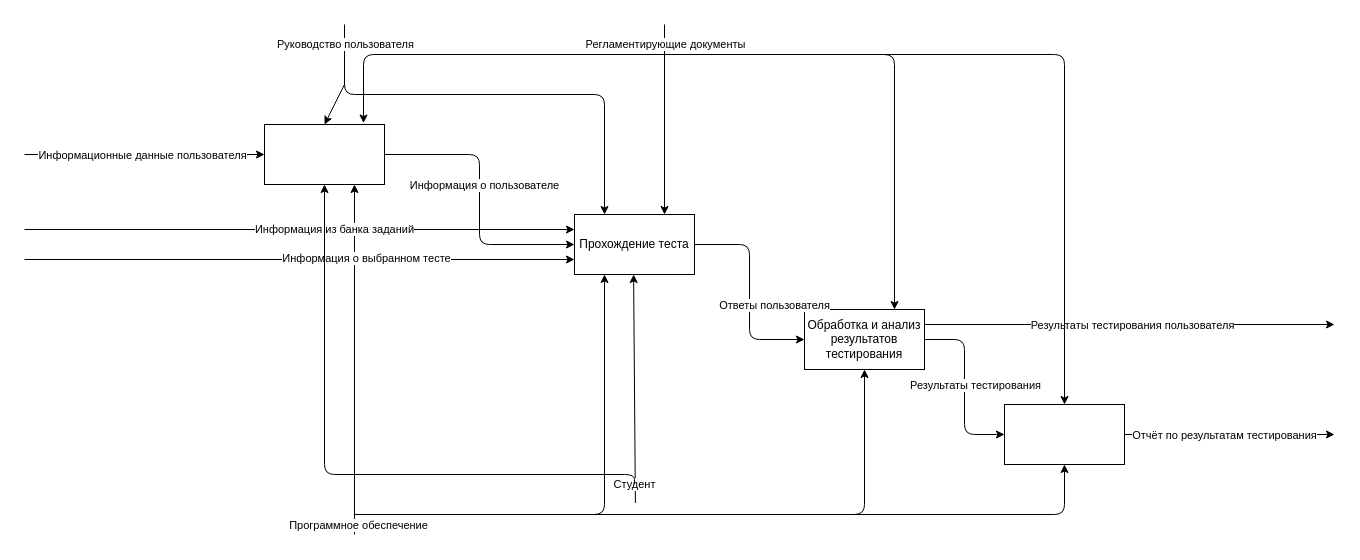
This 1360x560 diagram has some shape labels left out. The shapes that lost their labels are listed below. From the top down, each one's box as (x1, y1, x2, y2) in pixels, then its label:
(264, 124, 384, 184): Аутентификация пользователя
(1004, 404, 1124, 464): Формирование отчёта
